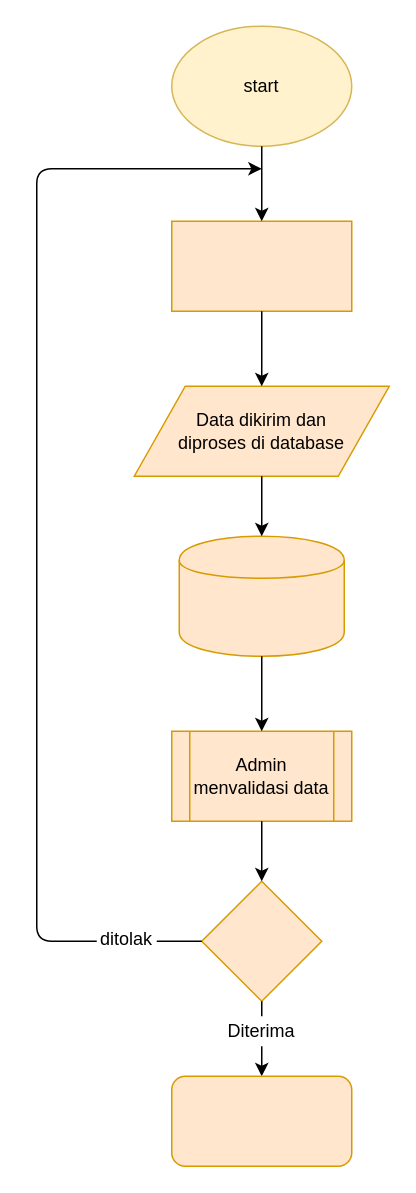
This 416x1193 diagram has some shape labels left out. The centre of each missing label's shape, as x and y in pixels:
"Data masuk ke database" belongs at point 261,595.
"Pendaftar melengkapi biodata dan berkas" belongs at point 261,265.
"Selesai (Dapat melakukan kegiatan di BBIB)" belongs at point 261,1120.
